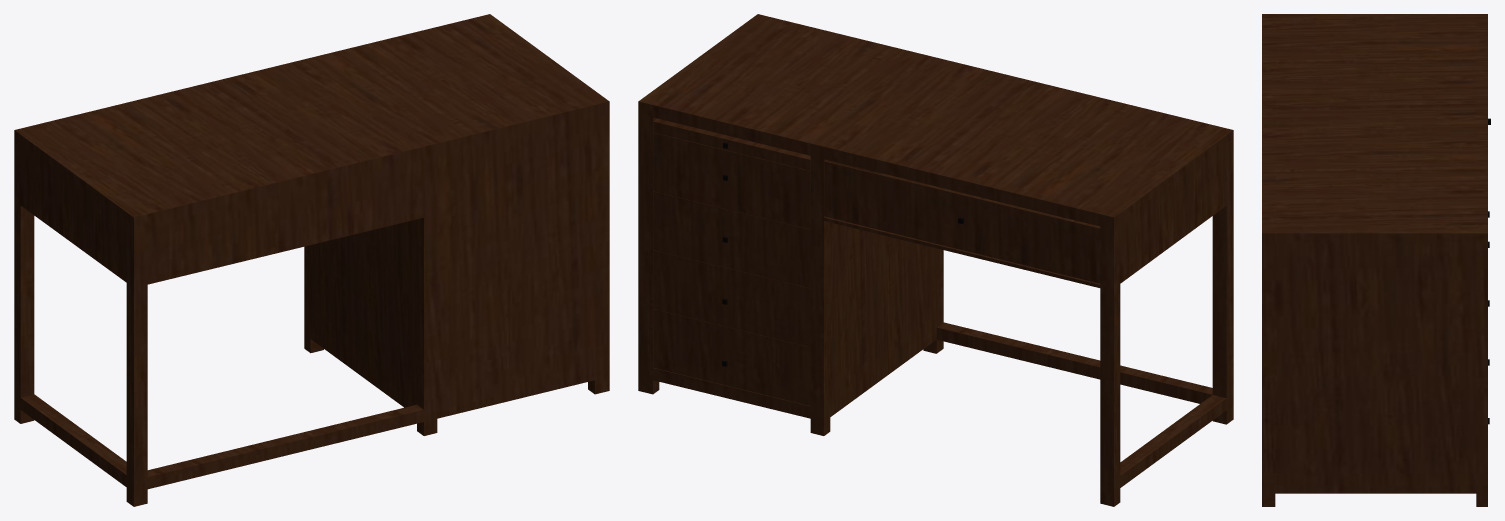
Rendered from Desk.fbx.
3 renders of one model, left to right at view 1: azimuth 30°, elevation 25°; view 2: azimuth 150°, elevation 25°; view 3: azimuth 270°, elevation 25°, orthographic. The views are drawn at different scales.
Parts seen in each view (by area): view 1: Table.001; view 2: Table.001, BigDraw.001, Drawer.001, Drawer.003, Drawer.002, Drawer.004, Board.001; view 3: Table.001.
Boxes of the visible parts, <box> form: Table.001: <box>14,14,609,506</box>; Table.001: <box>638,14,1233,506</box>; BigDraw.001: <box>824,160,1100,283</box>; Drawer.001: <box>653,132,810,229</box>; Drawer.003: <box>653,250,810,347</box>; Drawer.002: <box>653,191,810,288</box>; Drawer.004: <box>653,309,810,405</box>; Board.001: <box>653,118,810,170</box>; Table.001: <box>1262,14,1487,506</box>.
Size of the model in its own units: 238 by 138 by 105.
Materials: 1 (1 with a texture image).
